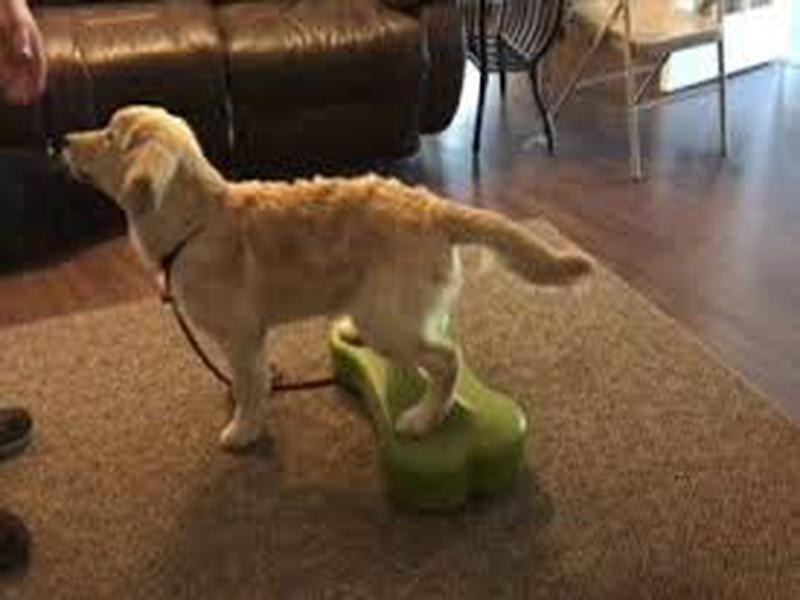dog_stand: (57, 98, 597, 452)
